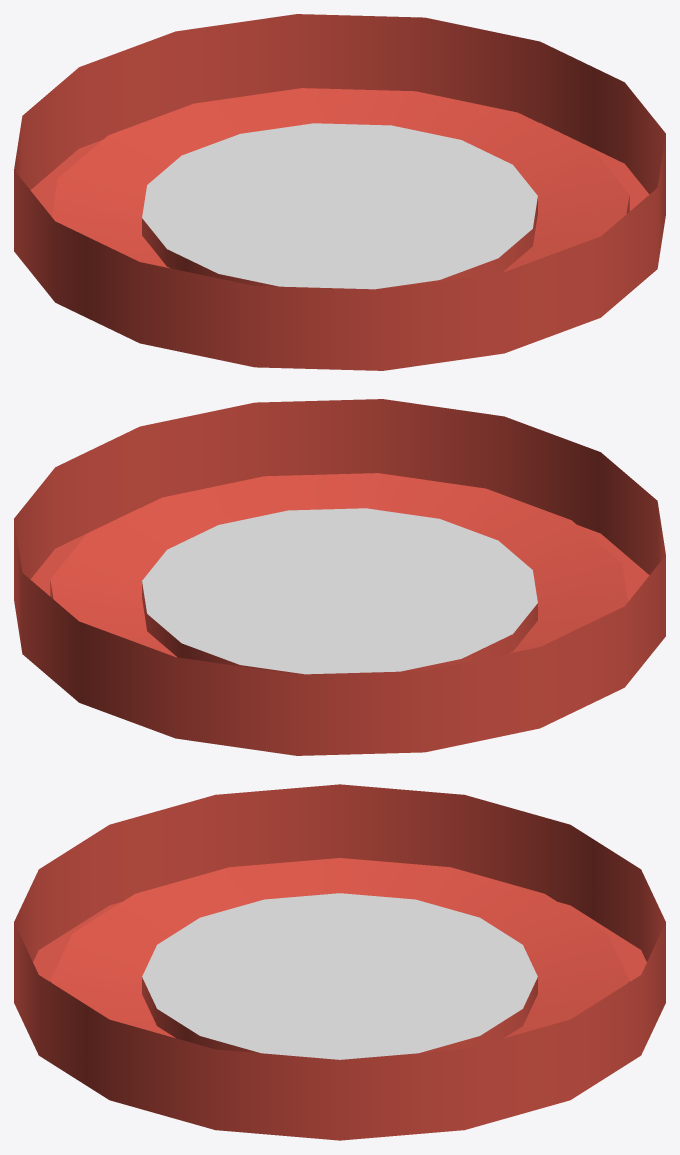
File: light_v2_1_low 1.fbx
3 views of the same model, one above another, from view 1: azimuth 30°, elevation 25°; view 2: azimuth 150°, elevation 25°; view 3: azimuth 270°, elevation 25° (orthographic).
Visible parts, largest first — view 1: light_v2_low; view 2: light_v2_low; view 3: light_v2_low.
Boxes of the visible parts, <box> form: light_v2_low: <box>14,14,665,370</box>; light_v2_low: <box>14,399,665,755</box>; light_v2_low: <box>14,784,665,1140</box>.
Bounding box in the file's own units: 23.65 × 3.23 × 23.65.
